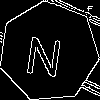N: (24, 27, 66, 77)
